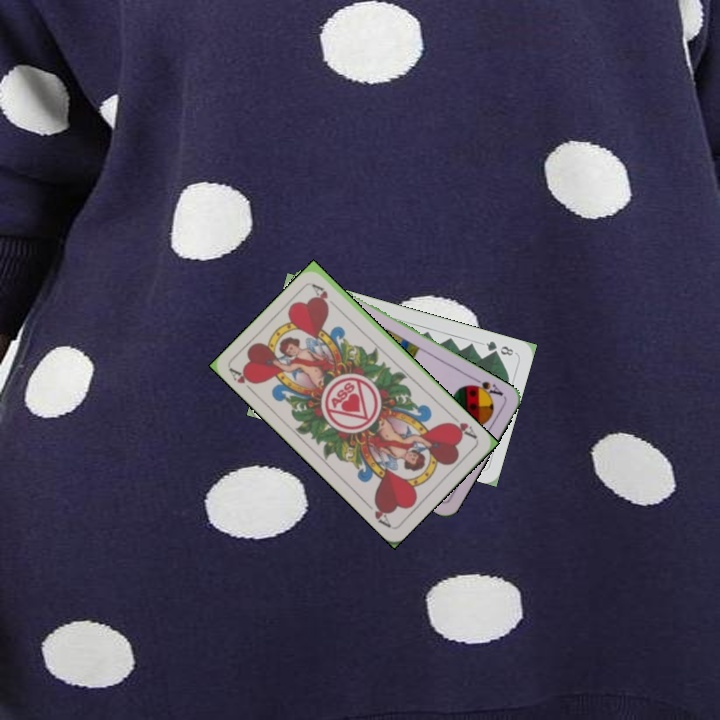G8: (482, 337, 516, 358)
HA: (226, 364, 259, 397), (445, 418, 480, 442)
SA: (466, 373, 506, 401)
